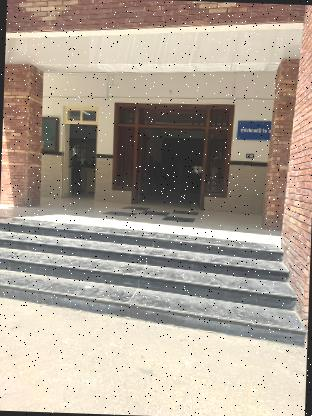door: (106, 94, 239, 216), (60, 102, 101, 206)
stair: (0, 217, 292, 329)
